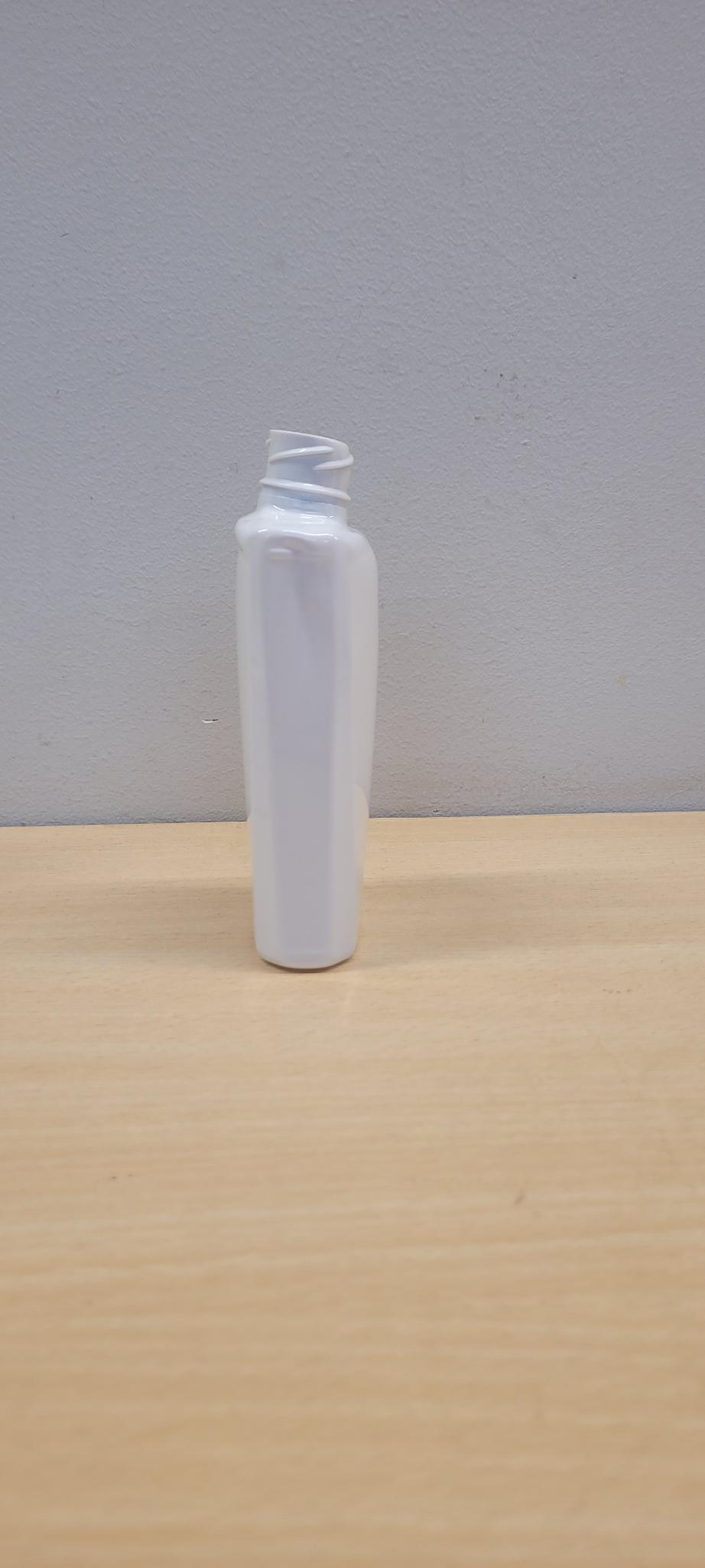bottle: (236, 429, 378, 971)
